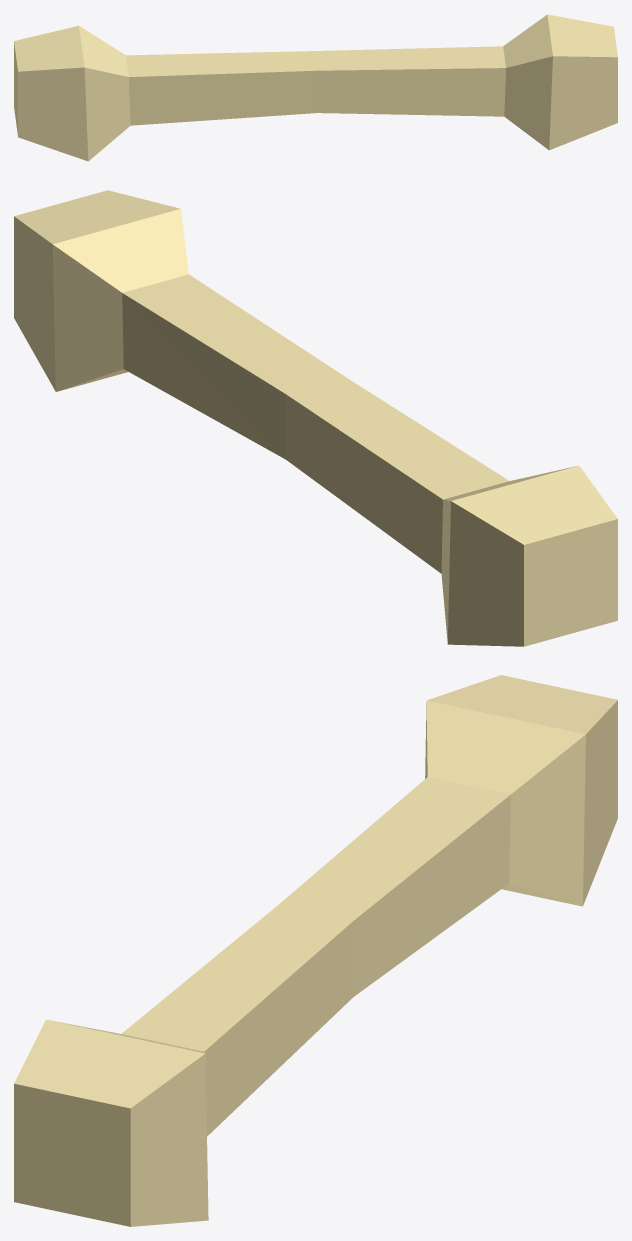
The model's file is n2_bone_beige_0_lev2.007.glb.
3 views of the same model, one above another, from view 1: azimuth 30°, elevation 25°; view 2: azimuth 150°, elevation 25°; view 3: azimuth 270°, elevation 25° (orthographic). The views are drawn at different scales.
Visible parts, largest first — view 1: n2_bone_beige_0_lev2.007; view 2: n2_bone_beige_0_lev2.007; view 3: n2_bone_beige_0_lev2.007.
Boxes of the visible parts, box(x1,y1,x2,y2) form: n2_bone_beige_0_lev2.007: box(14, 14, 617, 161); n2_bone_beige_0_lev2.007: box(14, 190, 617, 646); n2_bone_beige_0_lev2.007: box(14, 675, 617, 1226).
Bounding box in the file's own units: 3.68 × 0.6713 × 2.17.
